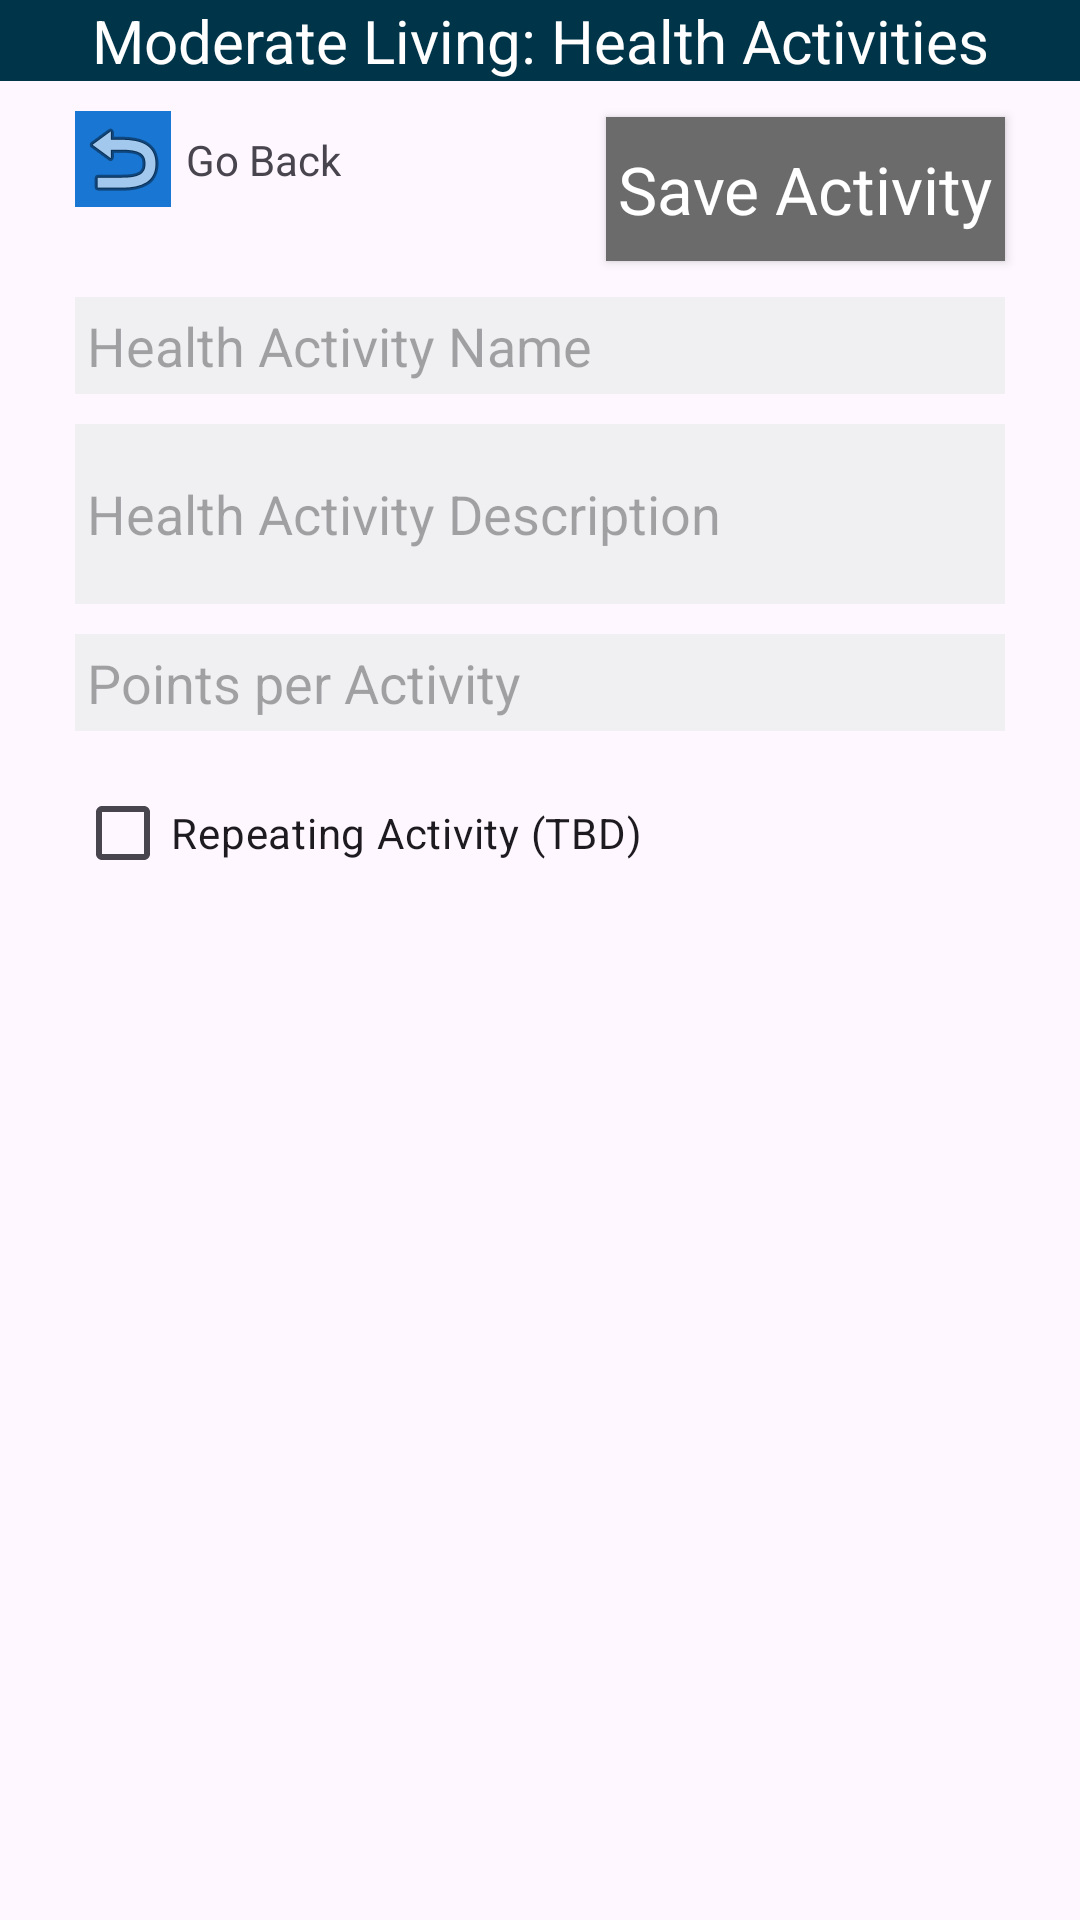

Where icons sit on this 1080 x 1920 app screen, as (x1, y1, x2, y2):
revert: (75, 111, 171, 207)
